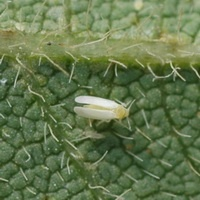insect: (74, 96, 135, 120), (74, 96, 135, 119)
